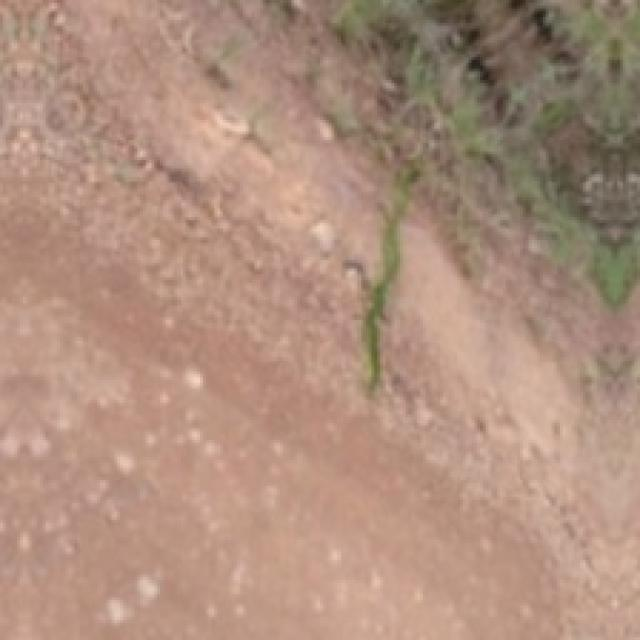red-tailed green ratsnake: (365, 159, 417, 389)
